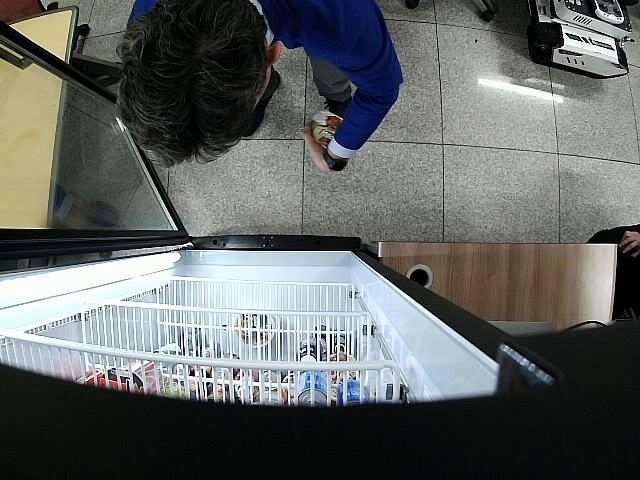03_chapagetti_L: (311, 110, 343, 148)
